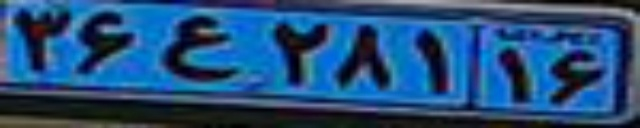1: (413, 28, 450, 92), (492, 47, 529, 103)
2: (271, 21, 330, 88)
3: (11, 8, 71, 71)
6: (75, 10, 135, 74), (547, 49, 606, 103)
8: (332, 24, 395, 90)
ain: (158, 14, 241, 80)
